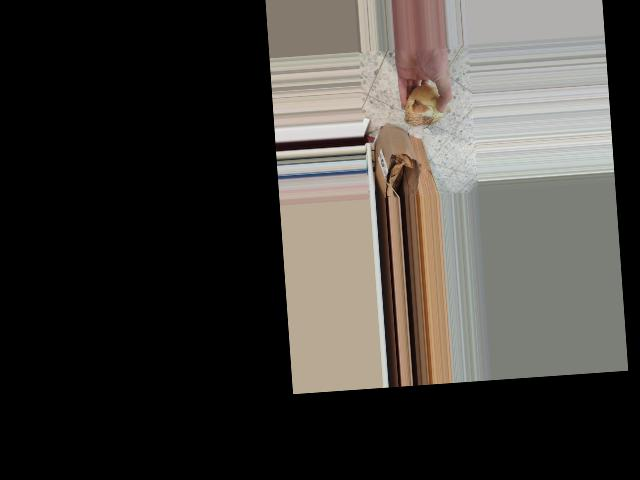onion: (401, 80, 451, 129)
